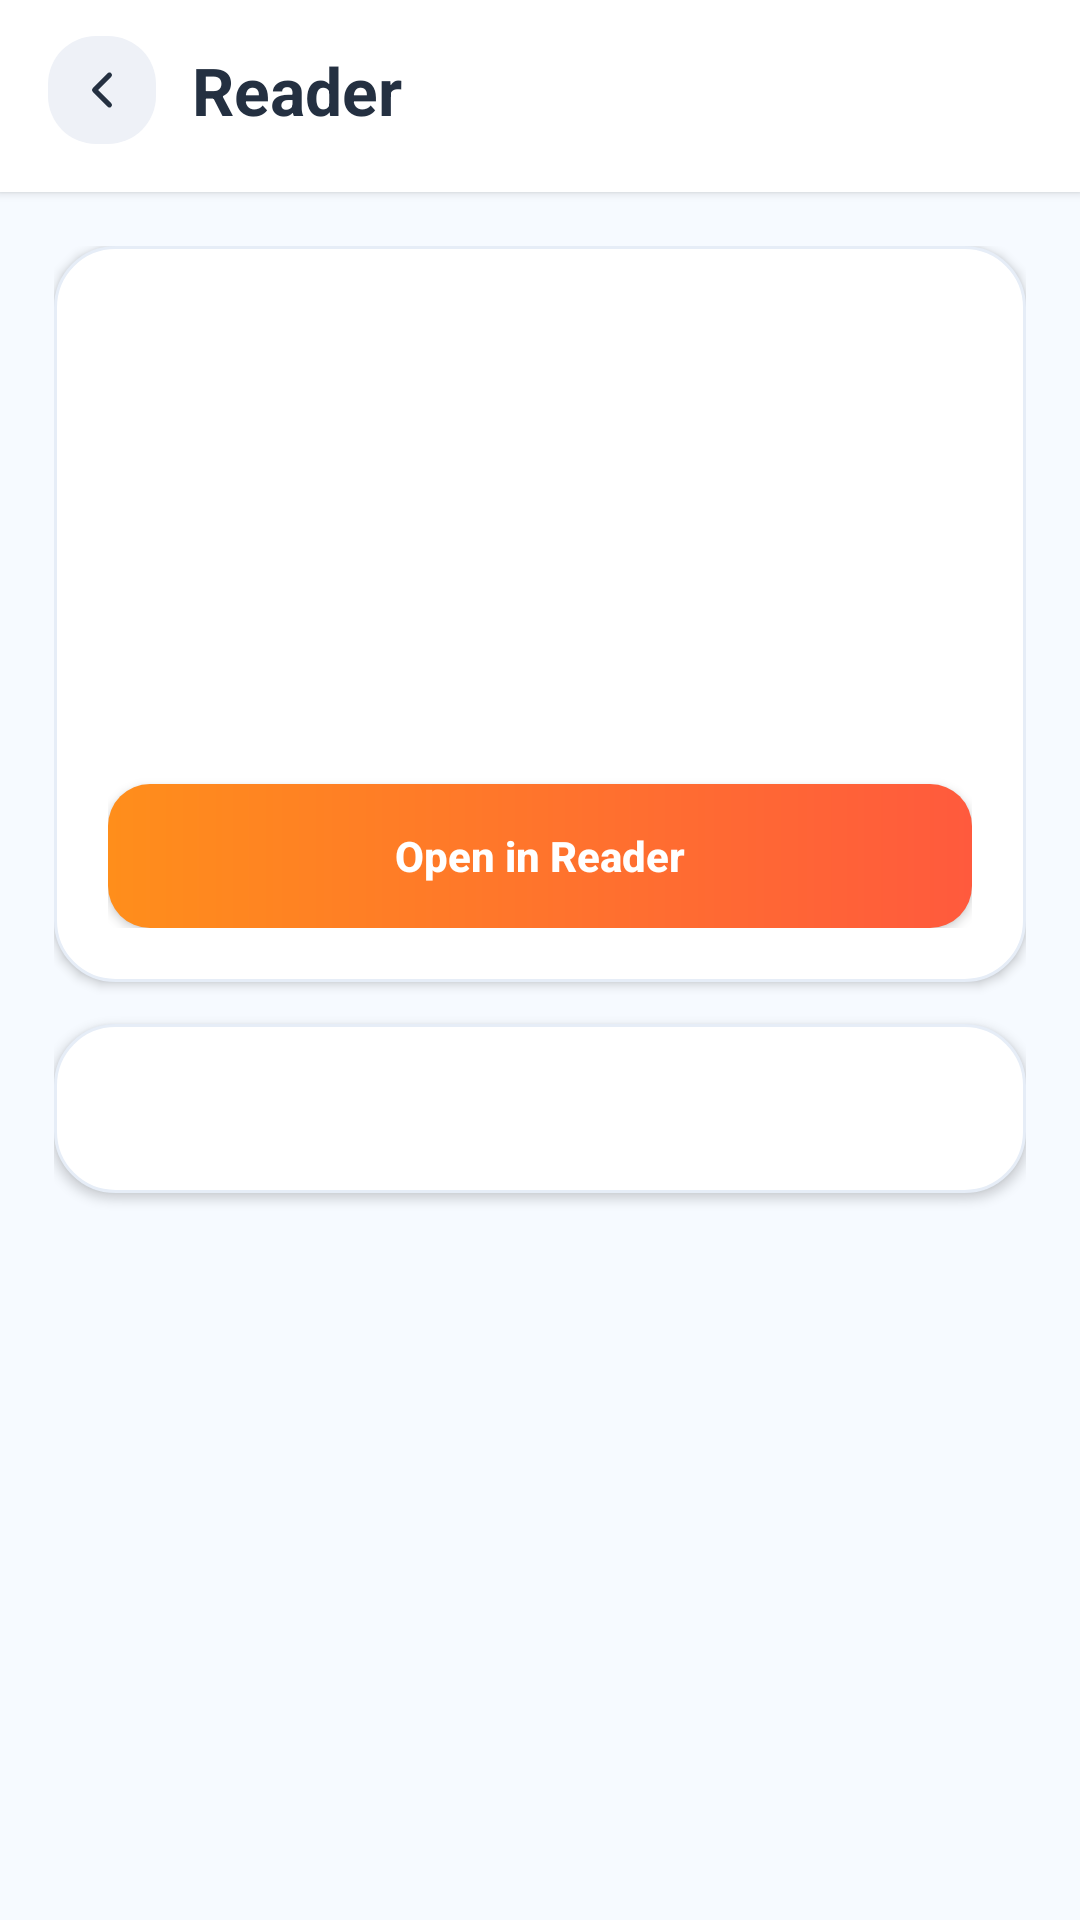

Icon click points for this 1080 x 1920 phone screenshot, format point (x, y):
back: point (102, 90)
